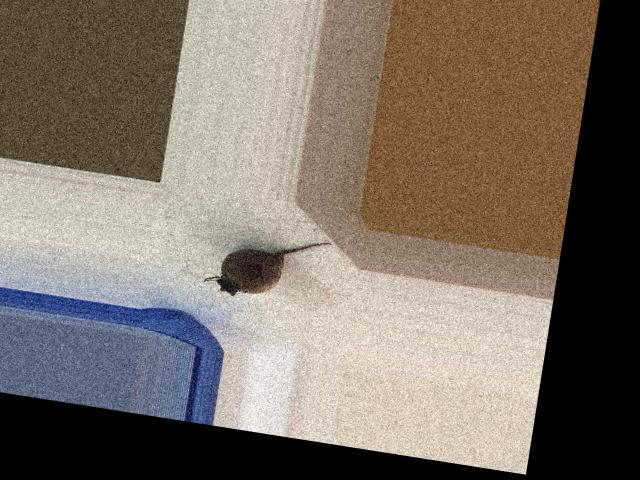beet: (203, 224, 331, 309)
